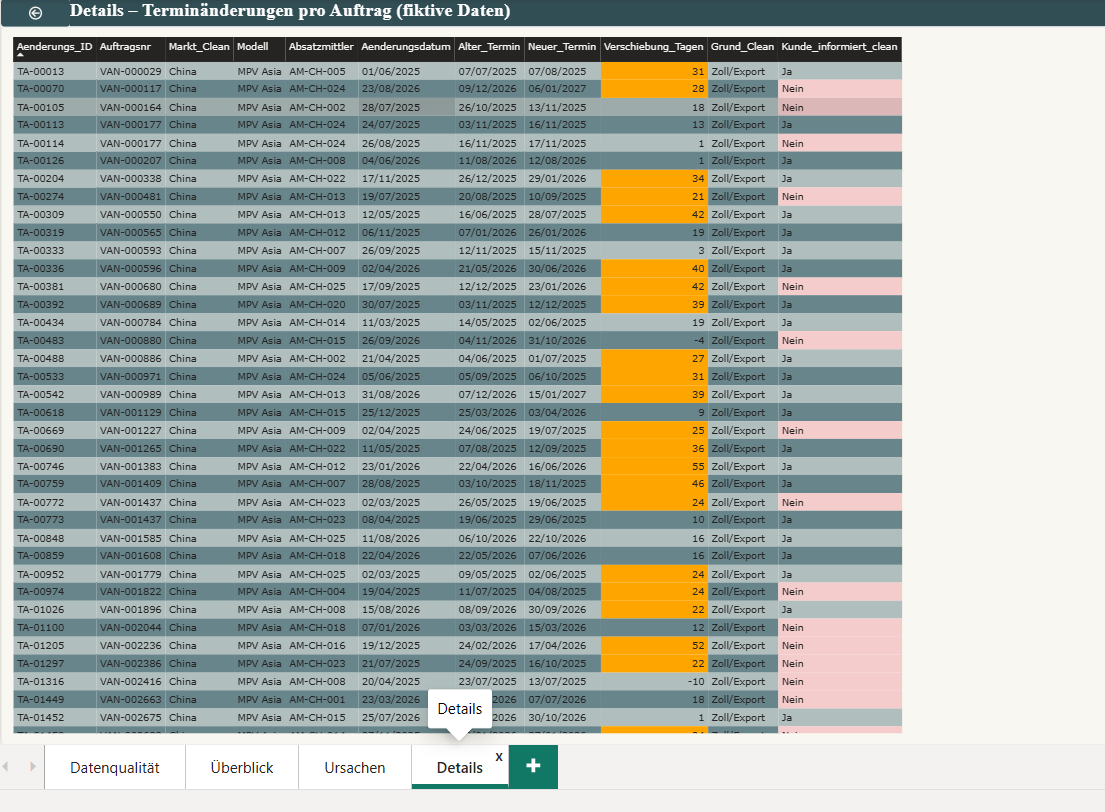

Layout of this report page (visuals, bound fields, positions):
{"tool":"powerbi","page":{"name":"Details","canvas":[1920,1080],"ordinal":3},"visuals":[{"type":"textbox","title":"Details – Terminänderungen pro Auftrag (fiktive Daten)","box":[100,0,1820,40],"z":0},{"type":"tableEx","fields":{"Values":["Terminaenderungen.Aenderungs_ID","Auftraege.Auftragsnr","Auftraege.Markt_Clean","Auftraege.Modell","Auftraege.Absatzmittler","Terminaenderungen.Aenderungsdatum","Terminaenderungen.Alter_Termin","Terminaenderungen.Neuer_Termin","Terminaenderungen.Verschiebung_Tagen","Terminaenderungen.Grund_Clean","Terminaenderungen.Kunde_informiert_clean"]},"box":[0,40,1910,1040],"z":1000},{"type":"actionButton","box":[0,0,100,40],"z":2000}]}

Visuals, with their boxes on the page's 1920x1080 design canvas (x1, y1, x2, y2). These are canvas units, not pixel positions in the 1105x812 screenshot, which may show the page scaled, cropped or inside an application window:
"Details – Terminänderungen pro Auftrag (fiktive Daten)" textbox: (100, 0, 1920, 40)
tableEx - Terminaenderungen.Aenderungs_ID x Auftraege.Auftragsnr: (0, 40, 1910, 1080)
actionButton: (0, 0, 100, 40)
